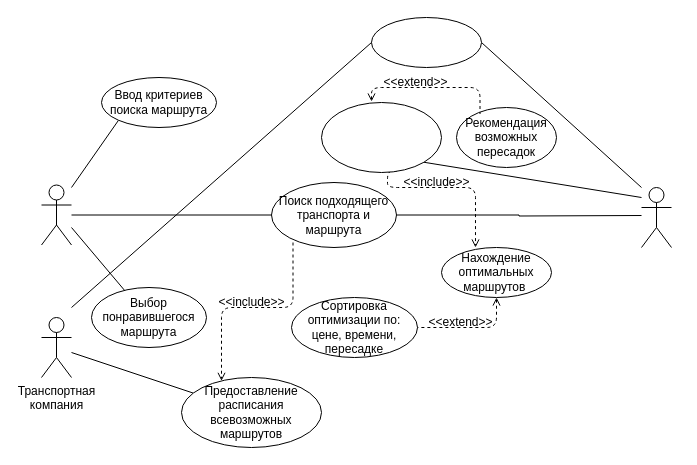
Image size: 697x465. Some labels were removed from this diagram. Here are the shapes that lost their labels. From the top down, the box of each, then its label:
(370, 16, 482, 68): Запрос критериев поиска маршрута
(320, 102, 442, 172): Вывод маршрутов по критериям Пассажира
(40, 184, 72, 245): Пассажир
(640, 186, 672, 248): Система
